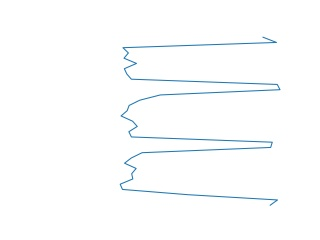majorRiverChannelBar: (116, 36, 287, 206)
